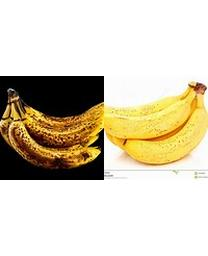banana: (104, 79, 207, 164), (1, 87, 104, 168)
